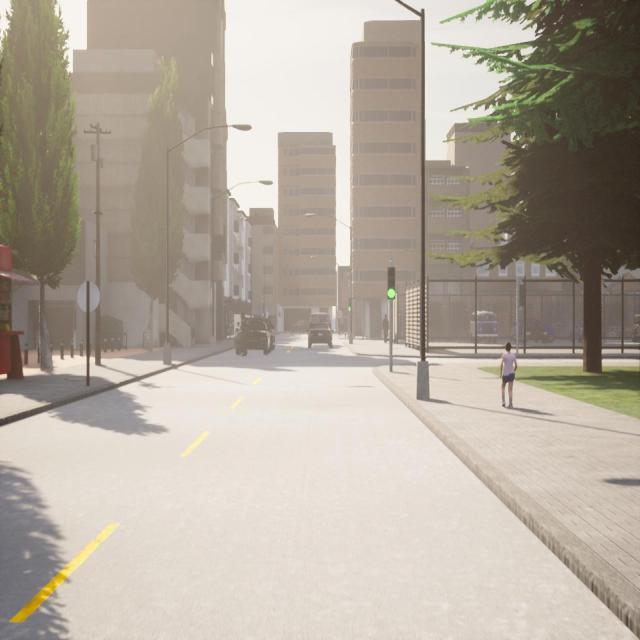Pedestrian: (500, 341, 517, 408), (381, 312, 389, 343)
Traffic_Signs: (76, 282, 102, 312), (337, 310, 343, 318)
Vehicle: (235, 317, 275, 355), (469, 309, 499, 344), (511, 319, 554, 343), (308, 322, 333, 348), (568, 321, 585, 344), (630, 313, 640, 343)
traffic_light: (387, 267, 396, 300), (519, 283, 524, 307), (348, 299, 352, 312)
